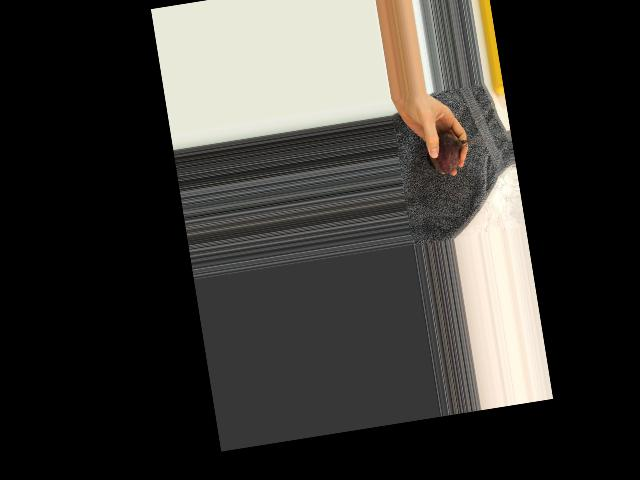beet: (423, 126, 489, 176)
